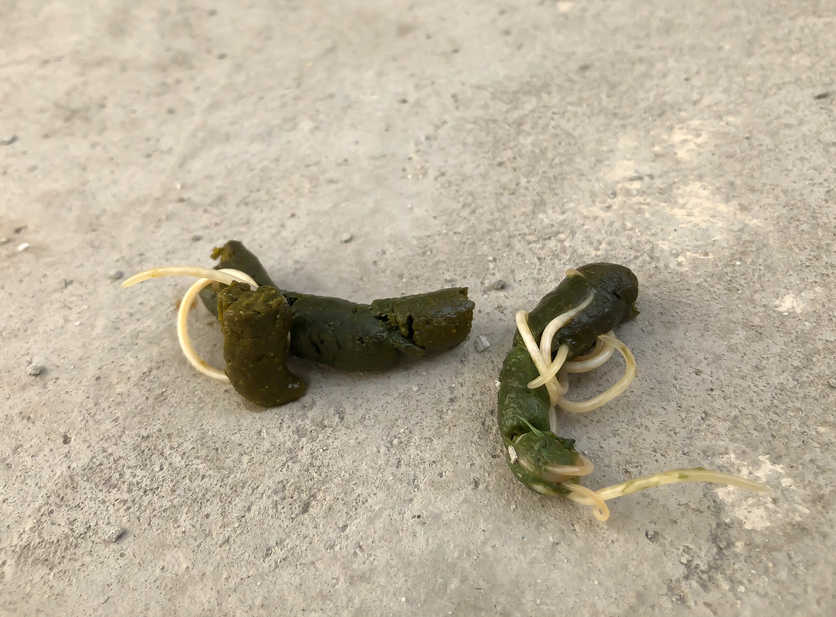Dog: (150, 241, 458, 397), (506, 265, 642, 497)
